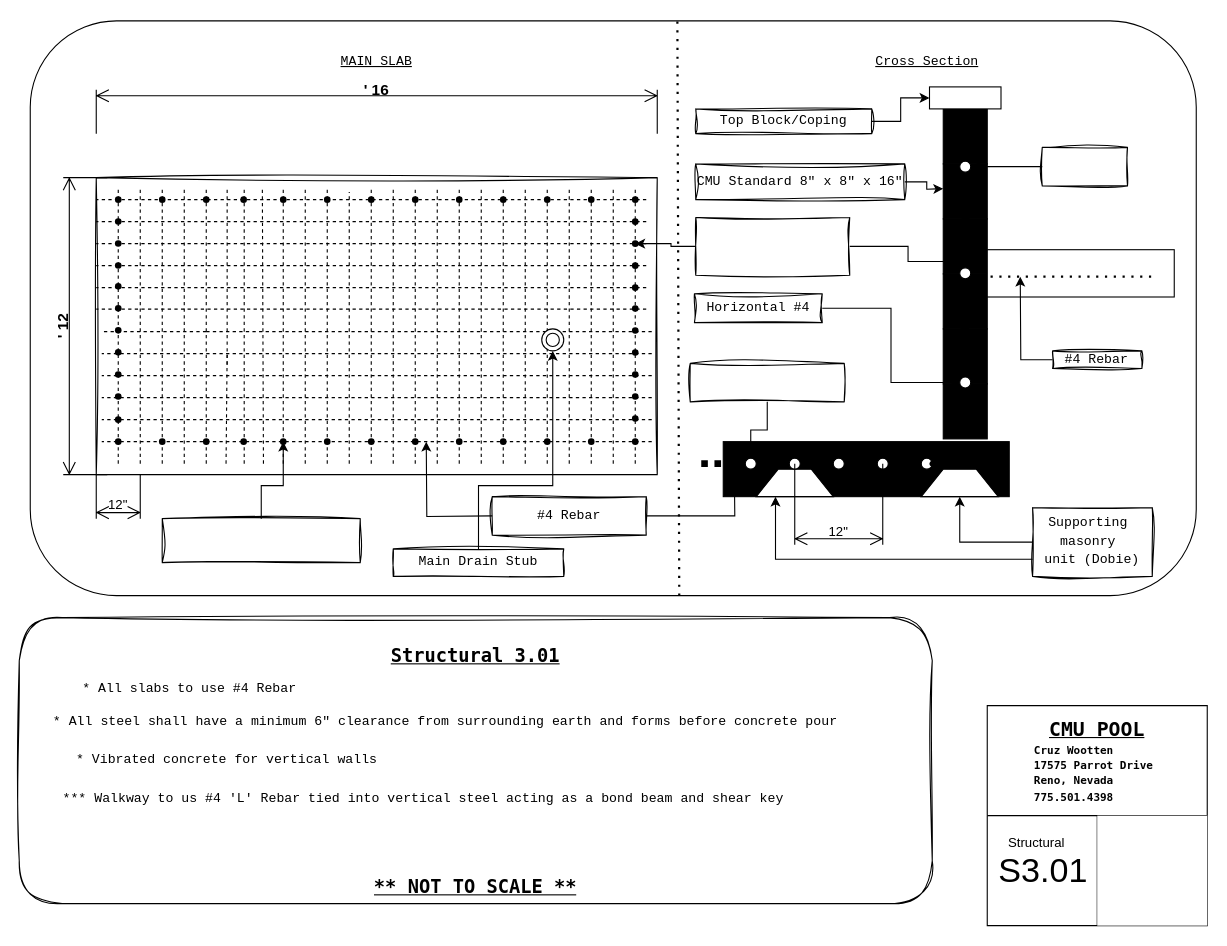
This 1227x946 diagram has some shape labels left out. The shapes that lost their labels are listed below. From the top down, each one's box as (x1, y1, x2, y2) in pixels, then its label:
(1041, 146, 1128, 186): Top Ring
(695, 216, 850, 275): #4 'L' Rebar tied into Main Slab mat
(986, 249, 1174, 297): Walkway ***
(689, 362, 844, 402): Orthogonal #4 Rebar
(161, 518, 360, 563): #4 Rebar 'L' Vertical
(1097, 815, 1207, 925): Drawing Page 5 / X
